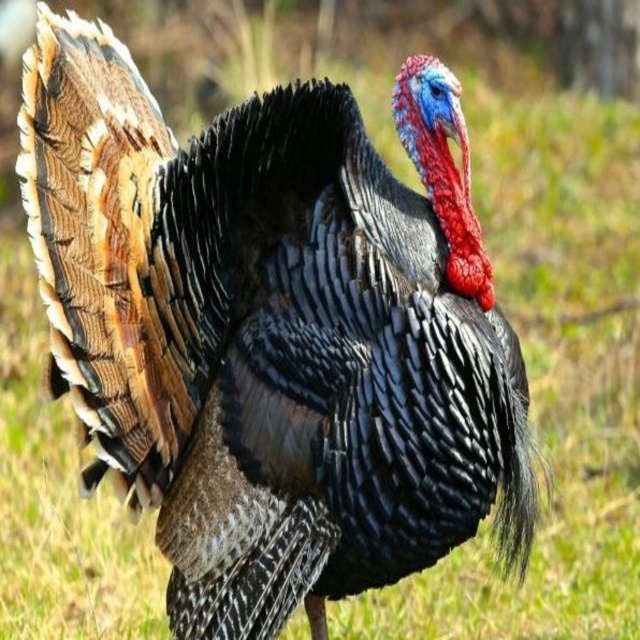Turkey: (16, 1, 563, 640)
